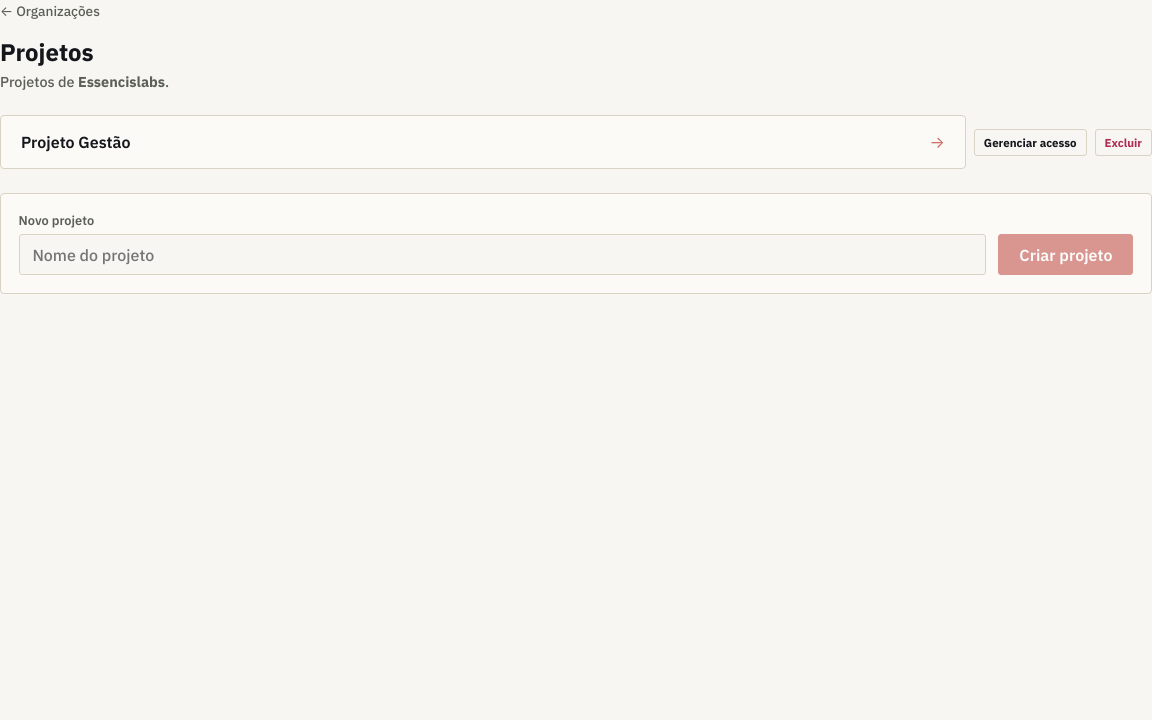
Test: ProjectsPage — gestão de acesso (TASK-013) › CA-02: admin abre o modal de gestão de acesso do projeto com papel visualizador/editor
The width and height of the screenshot is (1152, 720).
Expected: the text "Projeto Gestão" is shown, [21, 132, 130, 152]
Click the button "Gerenciar acesso".
click(1030, 142)  # box [974, 128, 1087, 156]
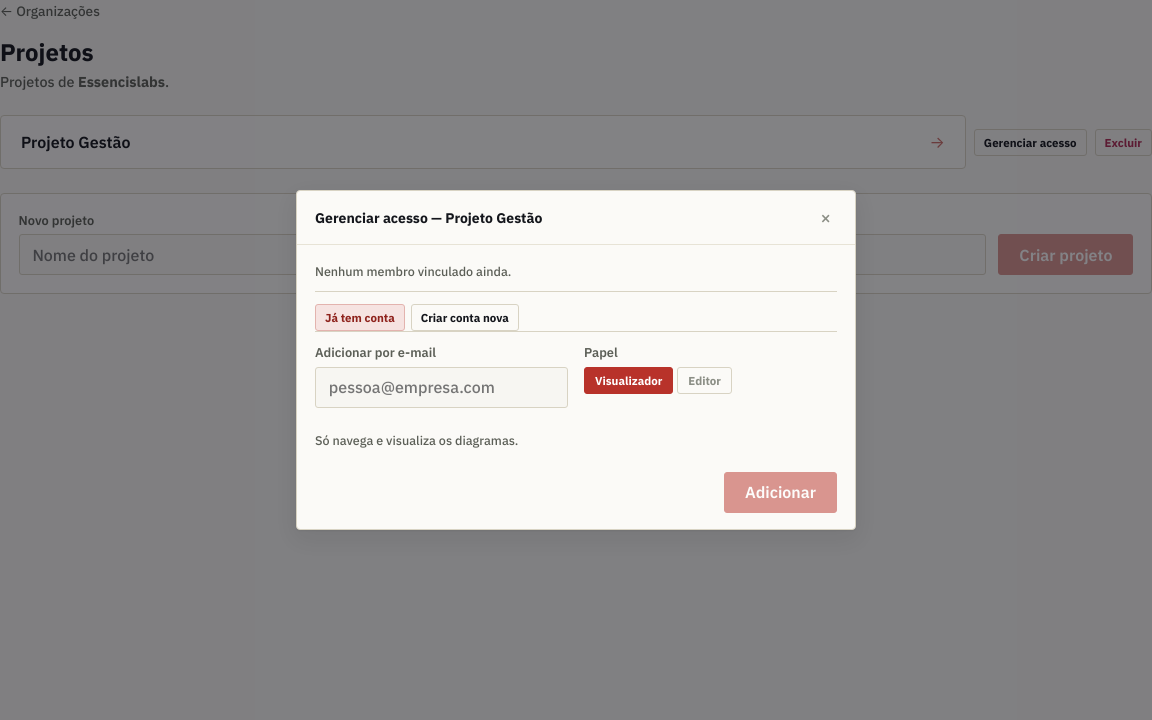
Now the heading "Gerenciar acesso — Projeto Gestão" is shown, box [315, 208, 542, 226]
Now the element named "Papel" is shown, box [584, 367, 732, 394]
Now the radio button labelled "Visualizador" is shown, box [584, 367, 673, 394]
